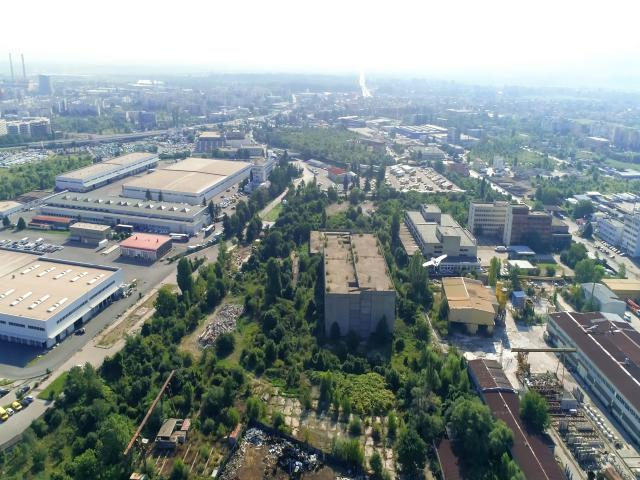plane: (420, 254, 446, 271)
